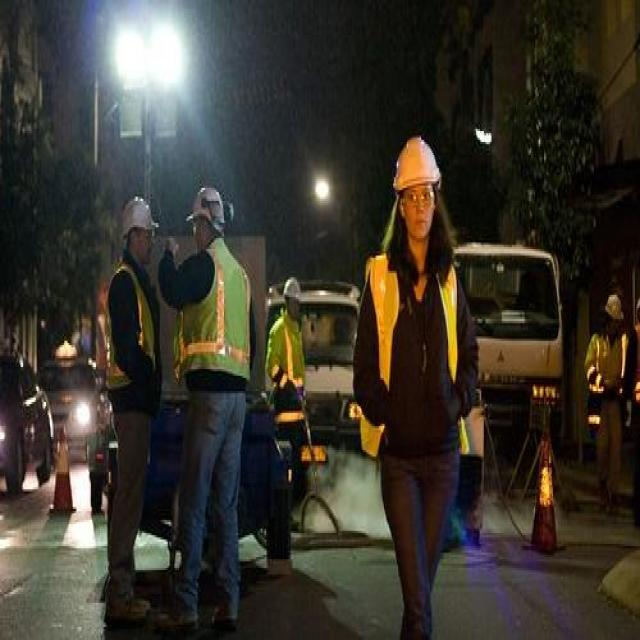Reflective-Jacket: (347, 242, 486, 480), (170, 245, 261, 404), (91, 252, 168, 419), (259, 306, 321, 467), (580, 328, 632, 439)
Safety-Helmet: (384, 122, 449, 203), (182, 173, 234, 240), (114, 183, 162, 247), (276, 264, 310, 314), (602, 286, 628, 328)
